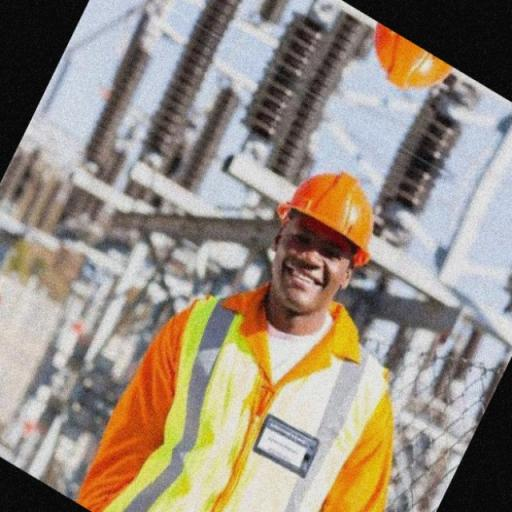Person: (60, 145, 454, 512), (86, 164, 411, 510)
helmet: (277, 168, 389, 270)
none: (269, 218, 361, 270)
vest: (106, 306, 392, 512)
